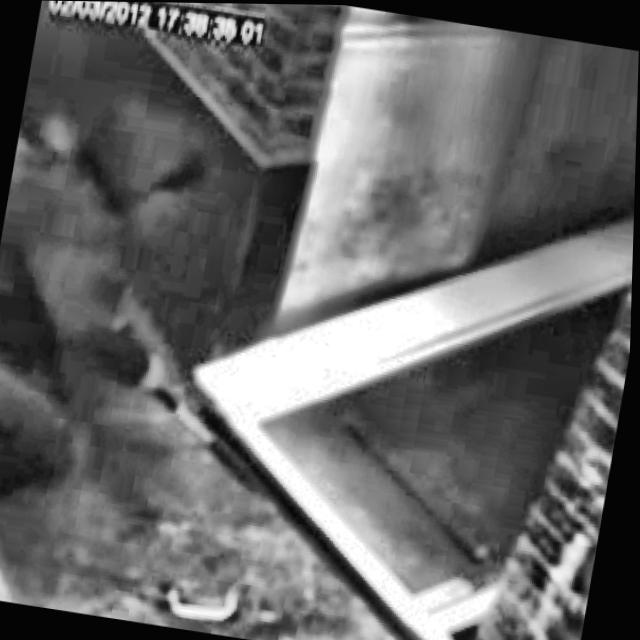burglary: (0, 76, 330, 557)
